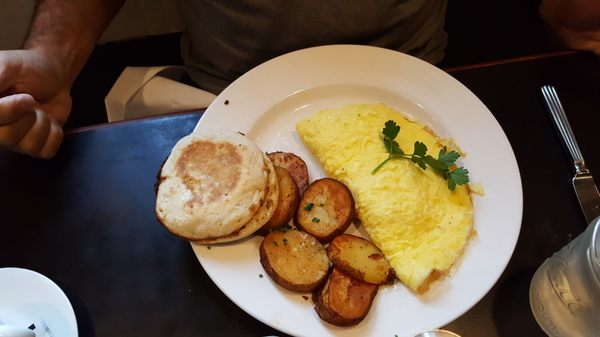burger: (539, 84, 600, 227)
